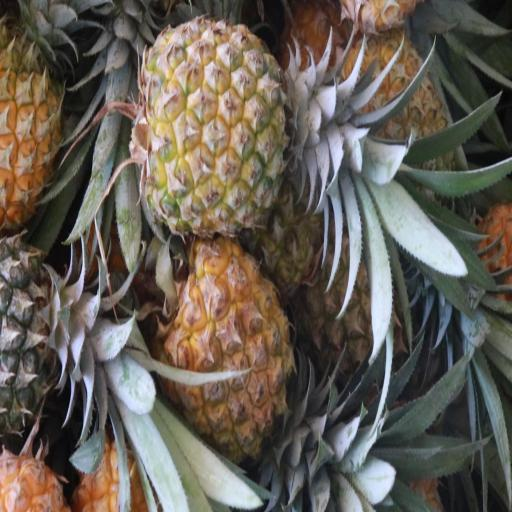------------------------------: (335, 42, 448, 211)
Pineapple - v8 v1: (140, 20, 287, 232), (157, 236, 291, 464), (0, 29, 70, 236)
